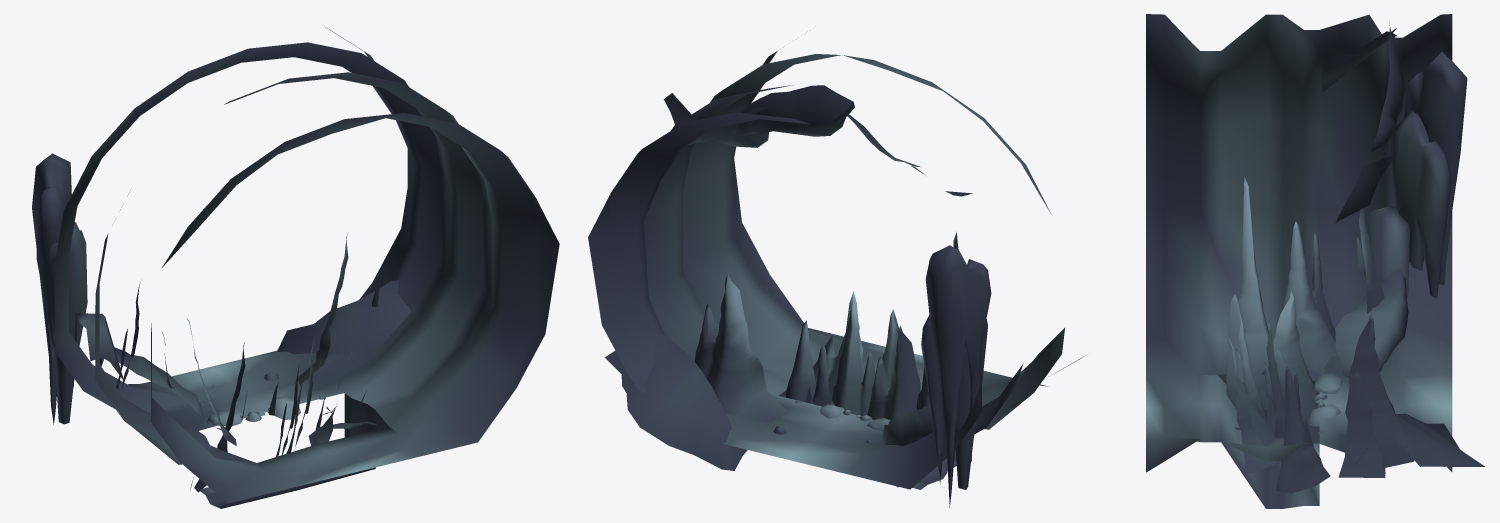
The model's file is Arctic_Tunnels_Obstacle_Jump_B.glb.
3 views of the same model, side by side, from view 1: azimuth 30°, elevation 25°; view 2: azimuth 150°, elevation 25°; view 3: azimuth 270°, elevation 25° (orthographic). The views are drawn at different scales.
Parts seen in each view (by area): view 1: Arctic_Tunnels_Obstacle_Jump_B; view 2: Arctic_Tunnels_Obstacle_Jump_B; view 3: Arctic_Tunnels_Obstacle_Jump_B.
Part boxes in pixels (x1,y1,x2,y2): Arctic_Tunnels_Obstacle_Jump_B: (32, 26, 559, 508); Arctic_Tunnels_Obstacle_Jump_B: (588, 51, 1085, 507); Arctic_Tunnels_Obstacle_Jump_B: (1146, 14, 1485, 508).
Size of what is drawn, in the model's own units: 8.99 by 9.08 by 6.21.
